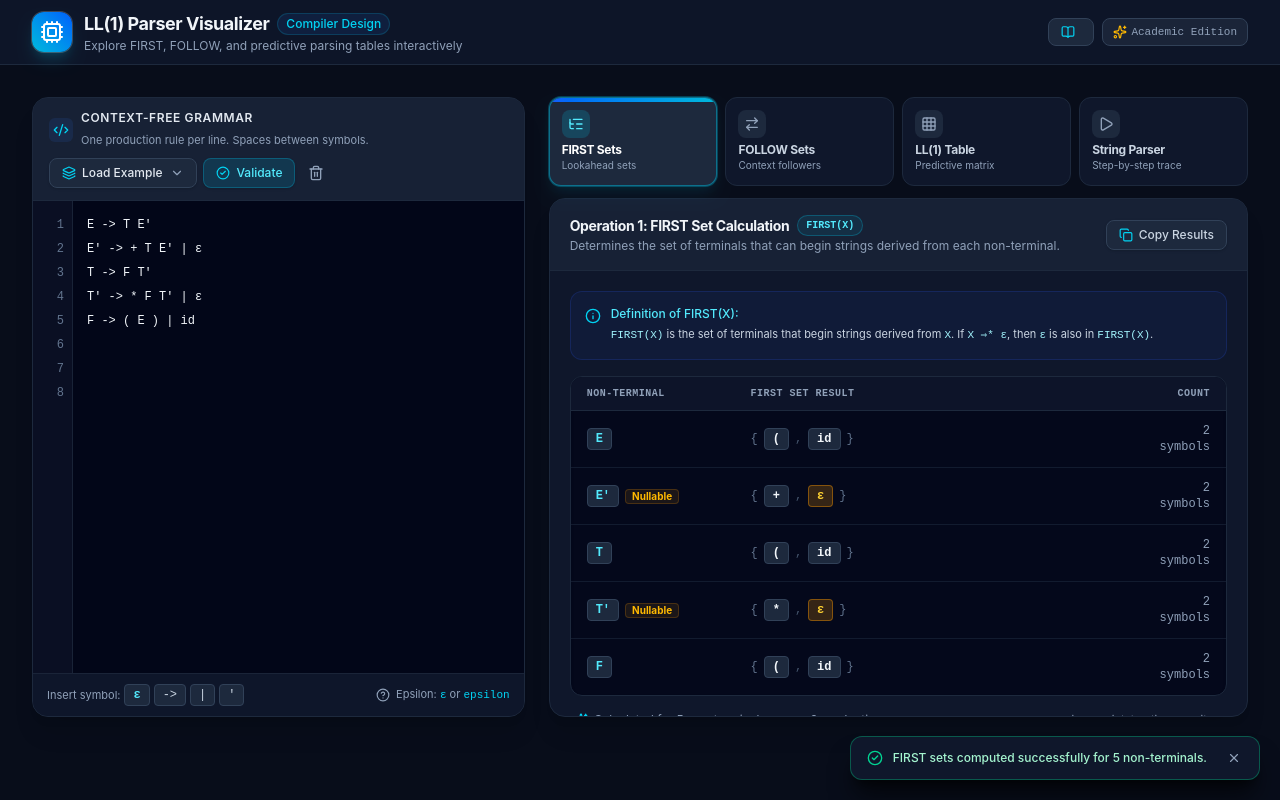
Scenario: LL(1) Parser Visualizer UI Integration › opens and closes theory guide modal
Click the button named "Syntax & Theory Guide": (1071, 32) [1048, 18, 1094, 46]
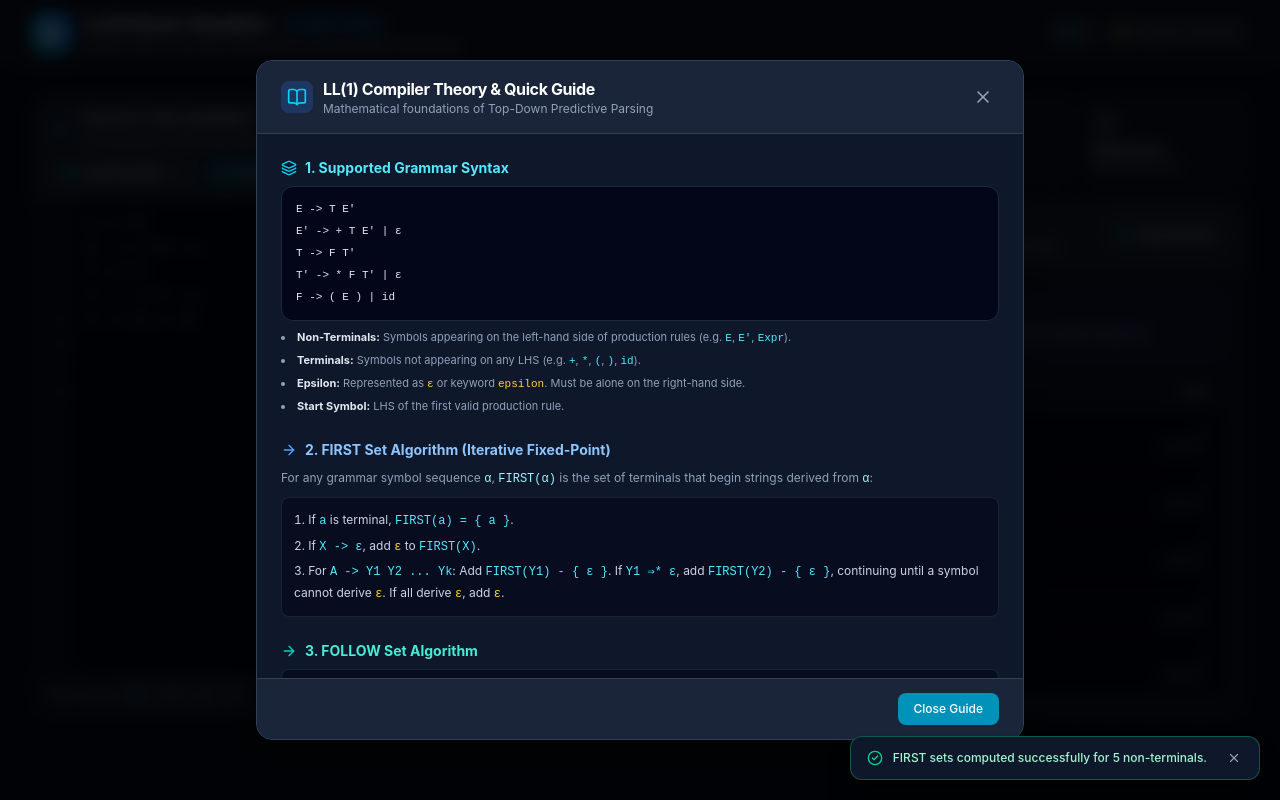
Expected: the heading "LL(1) Compiler Theory & Quick Guide" is shown, [323, 79, 595, 99]
Click the button "Close Guide": (948, 709) [898, 693, 999, 725]
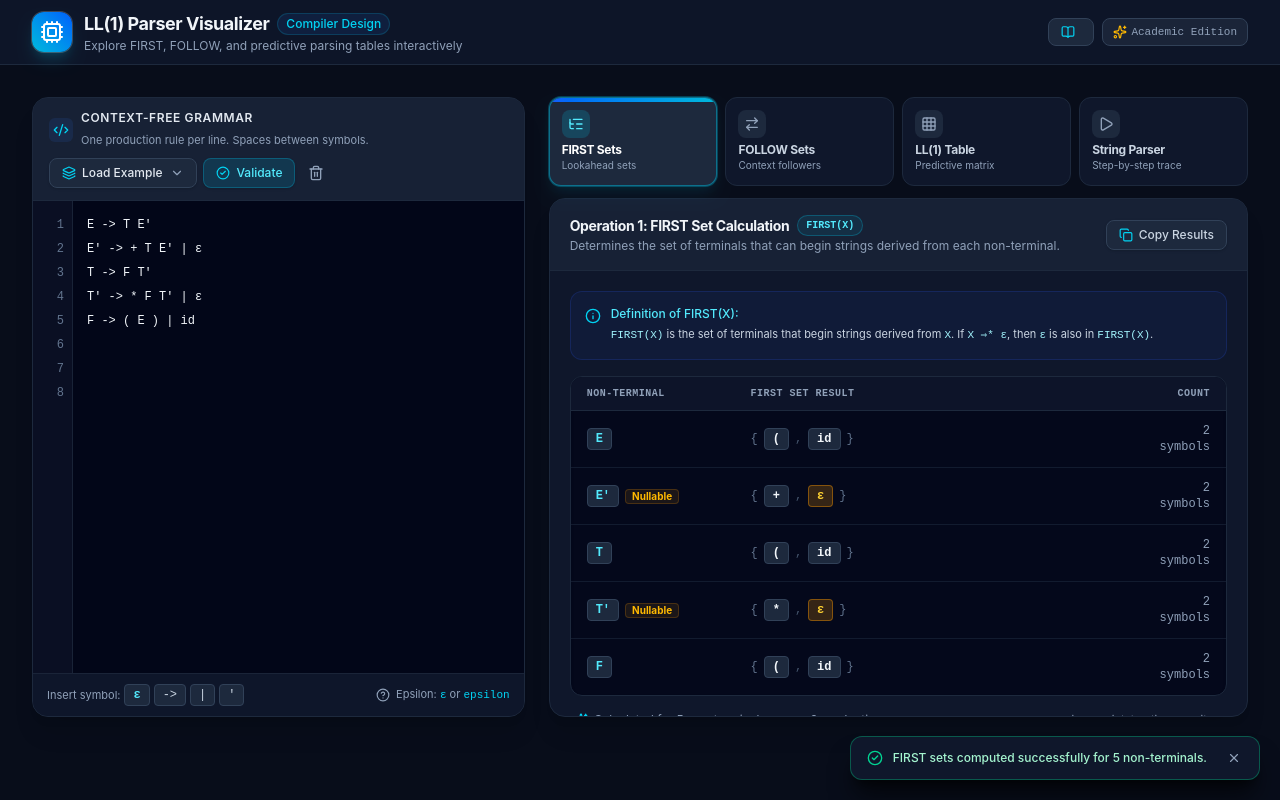
Expected: the heading "LL(1) Compiler Theory & Quick Guide" is gone
